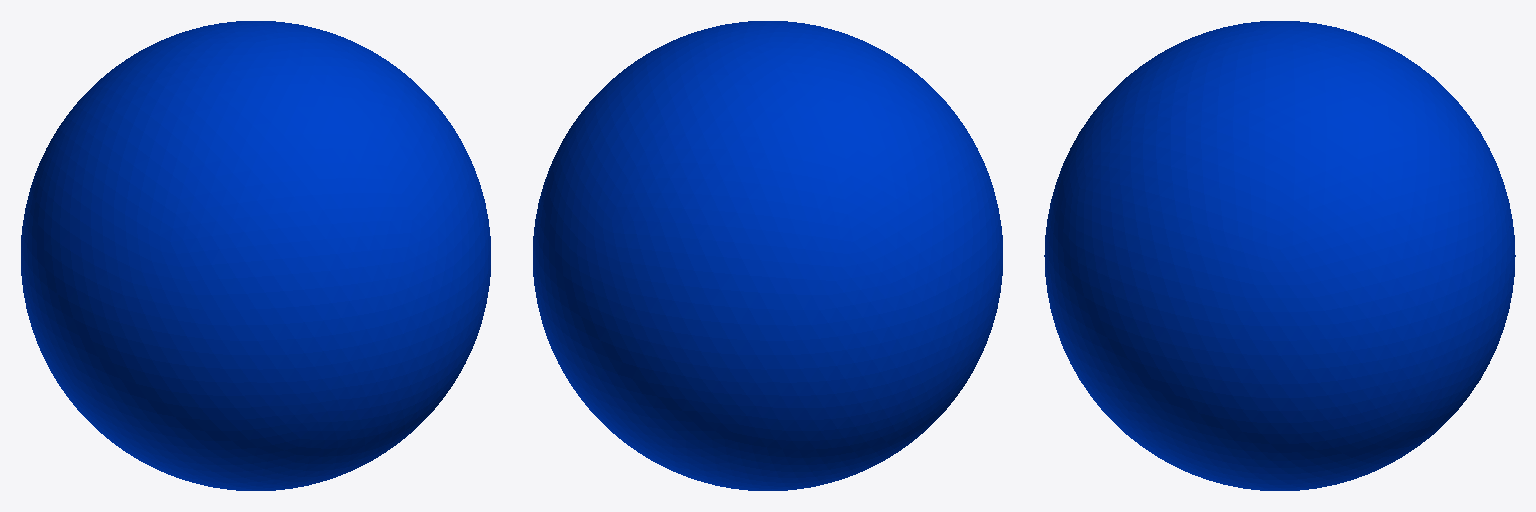
The model's file is planet_water.obj.
3 views of the same model, side by side, from view 1: azimuth 30°, elevation 25°; view 2: azimuth 150°, elevation 25°; view 3: azimuth 270°, elevation 25° (orthographic).
Parts seen in each view (by area): view 1: Icosphere.001; view 2: Icosphere.001; view 3: Icosphere.001.
Part boxes in pixels (x1,y1,x2,y2): Icosphere.001: (21, 21, 490, 490); Icosphere.001: (533, 21, 1002, 490); Icosphere.001: (1044, 21, 1515, 490).
Size of the model in its own units: 16.52 by 16.52 by 16.52.